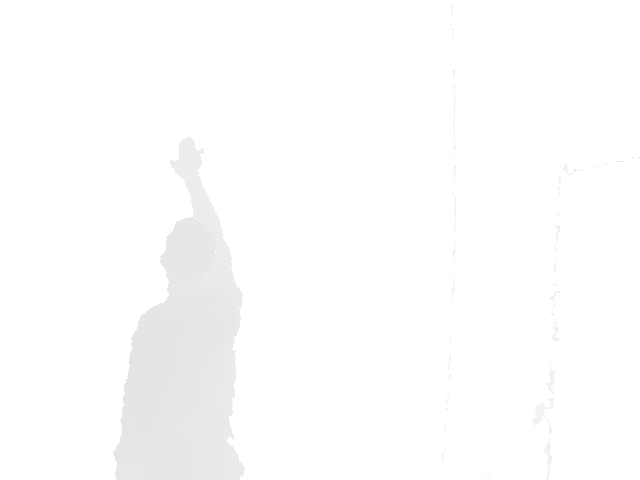hand: (169, 137, 206, 178)
head: (160, 216, 216, 284)
person: (111, 137, 248, 480)
